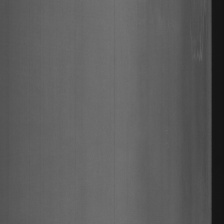silk_spot: (187, 7, 208, 67)
